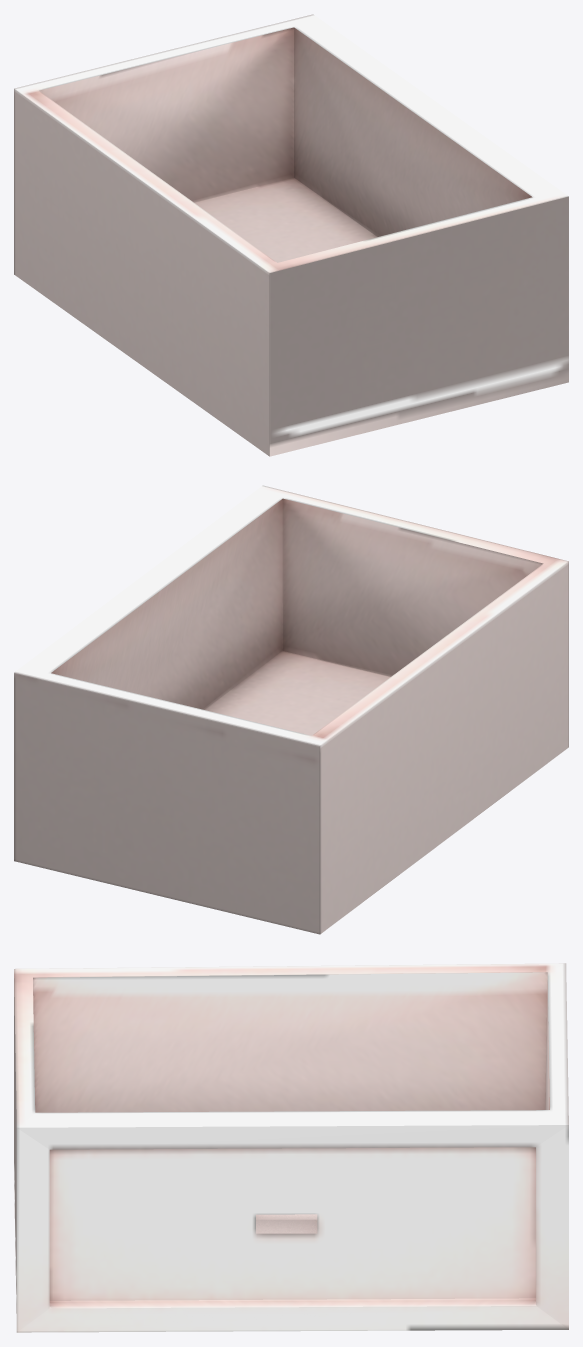
Rendered from drawer4.glb.
The picture shows the model from 3 angles, top to bottom: view 1: azimuth 30°, elevation 25°; view 2: azimuth 150°, elevation 25°; view 3: azimuth 270°, elevation 25°; orthographic projection. The views are drawn at different scales.
Parts seen in each view (by area): view 1: frl_apartment_lower_shelf_01_part_08; view 2: frl_apartment_lower_shelf_01_part_08; view 3: frl_apartment_lower_shelf_01_part_08.
Part boxes in pixels (x1,y1,x2,y2): frl_apartment_lower_shelf_01_part_08: [14, 14, 568, 456]; frl_apartment_lower_shelf_01_part_08: [14, 485, 568, 934]; frl_apartment_lower_shelf_01_part_08: [14, 963, 568, 1332].
Size of the model in its own units: 0.6209 by 0.3609 by 0.8862.
Materials: 1 (1 with a texture image).
